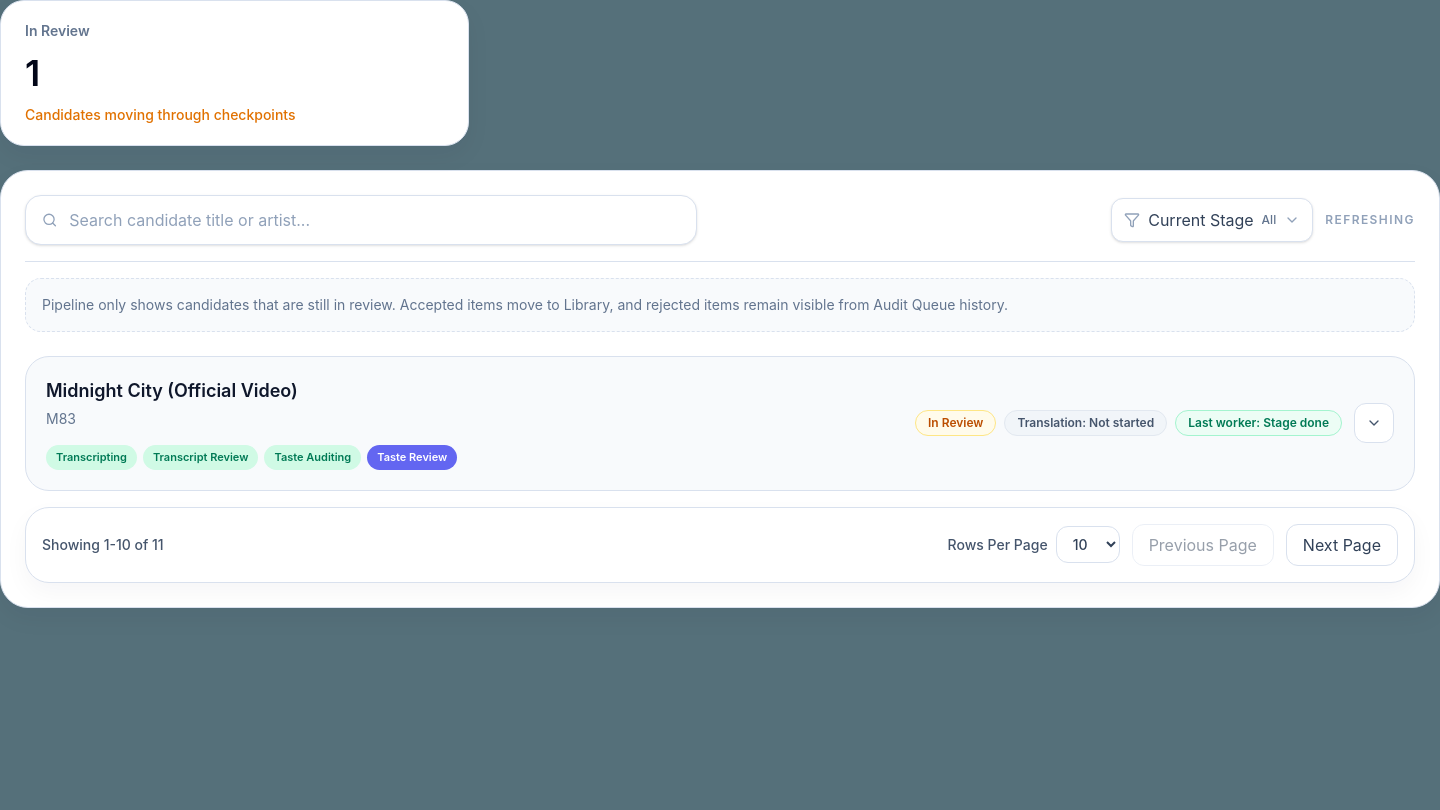
Test: PipelineDashboardClient › renders current stage filter as a checkbox popover
What coordinates should you click on to do the following:
click the button labelled "Current Stage All"
I would click on:
 (1212, 220)
Its box is [1111, 198, 1313, 242].
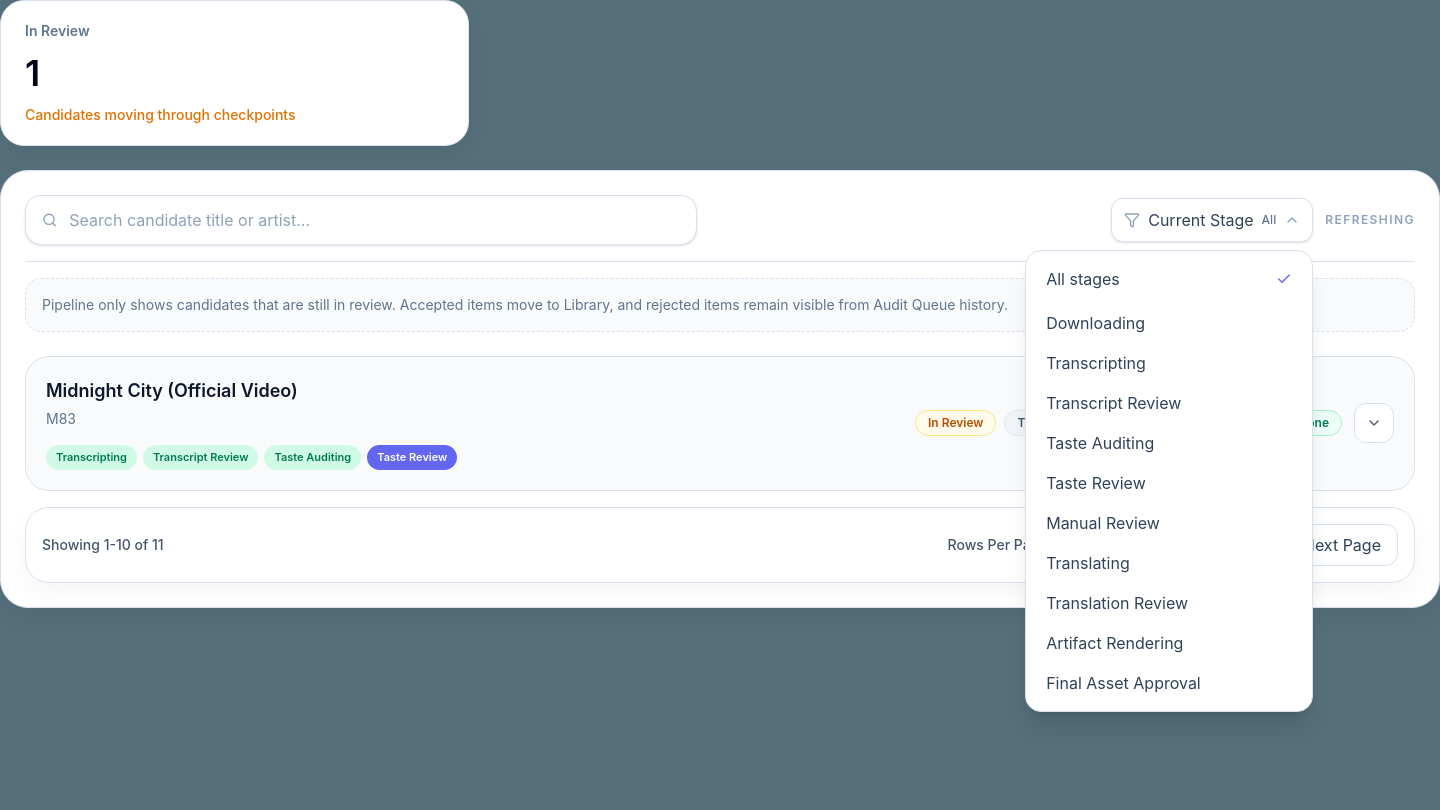
expect the button "All stages" is shown: met, box [1034, 259, 1304, 299]
expect the button "Transcript Review" is shown: met, box [1034, 383, 1304, 423]
